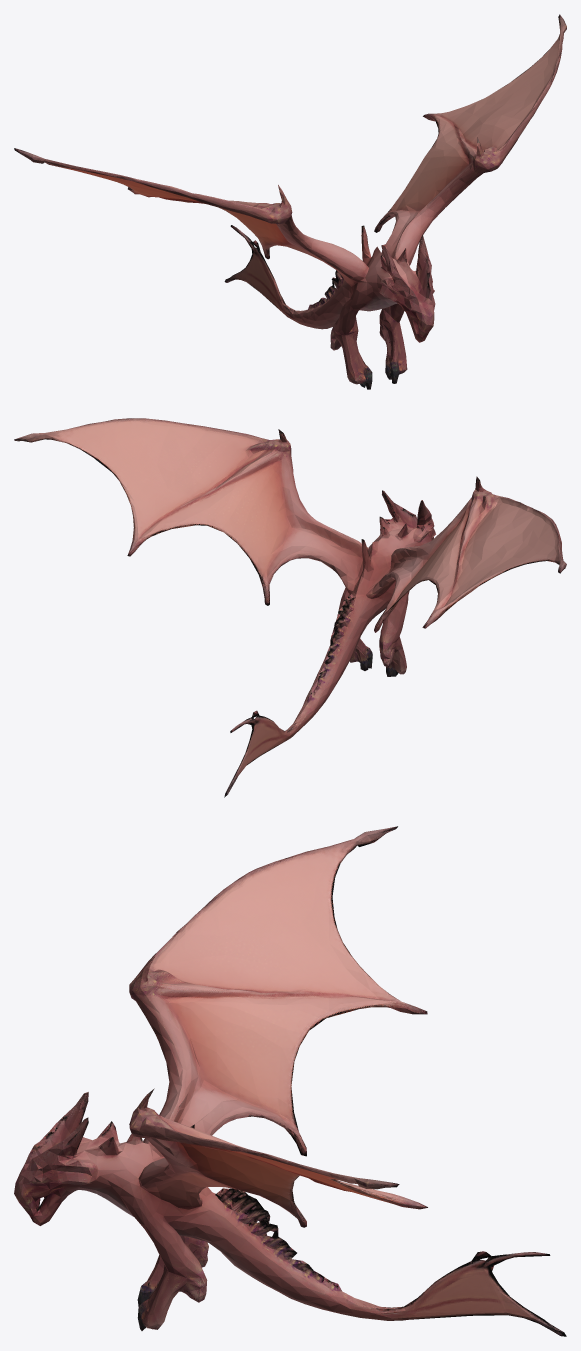
File: wyvern-dragon.glb
The picture shows the model from 3 angles, top to bottom: view 1: azimuth 30°, elevation 25°; view 2: azimuth 150°, elevation 25°; view 3: azimuth 270°, elevation 25°; orthographic projection. The views are drawn at different scales.
Visible parts, largest first — view 1: world; view 2: world; view 3: world.
Part boxes in pixels (<box>): world: <box>14,14,566,389</box>; world: <box>14,418,566,797</box>; world: <box>14,826,566,1336</box>.
Size of the model in its own units: 0.9975 by 0.4304 by 0.6502.
1 material, 1 textured.
